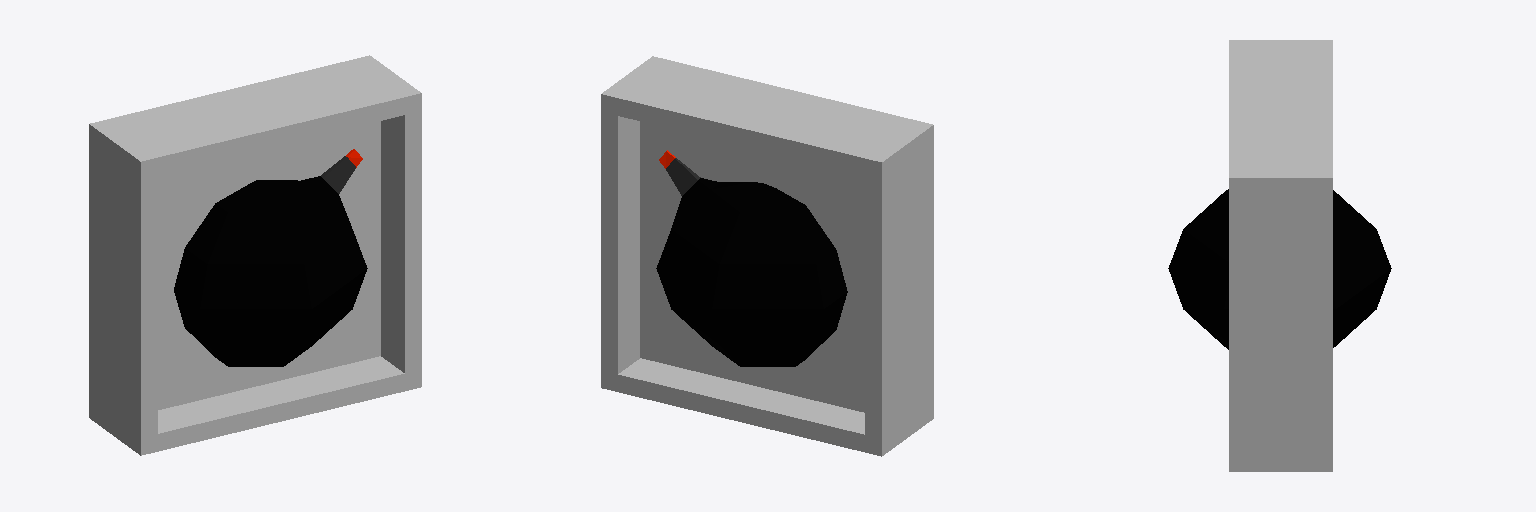
File: demolish.obj
3 renders of one model, left to right at view 1: azimuth 30°, elevation 25°; view 2: azimuth 150°, elevation 25°; view 3: azimuth 270°, elevation 25°, orthographic.
Parts seen in each view (by area): view 1: Cube; view 2: Cube; view 3: Cube.
Boxes of the visible parts, box(x1,y1,x2,y2) form: Cube: box(89, 55, 421, 455); Cube: box(601, 56, 933, 456); Cube: box(1168, 40, 1391, 471).
Size of the model in its own units: 2 by 2 by 1.38.